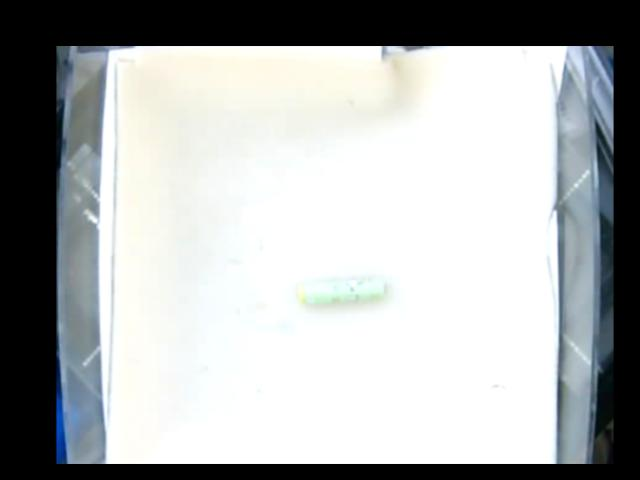Battery: (294, 276, 383, 304)
